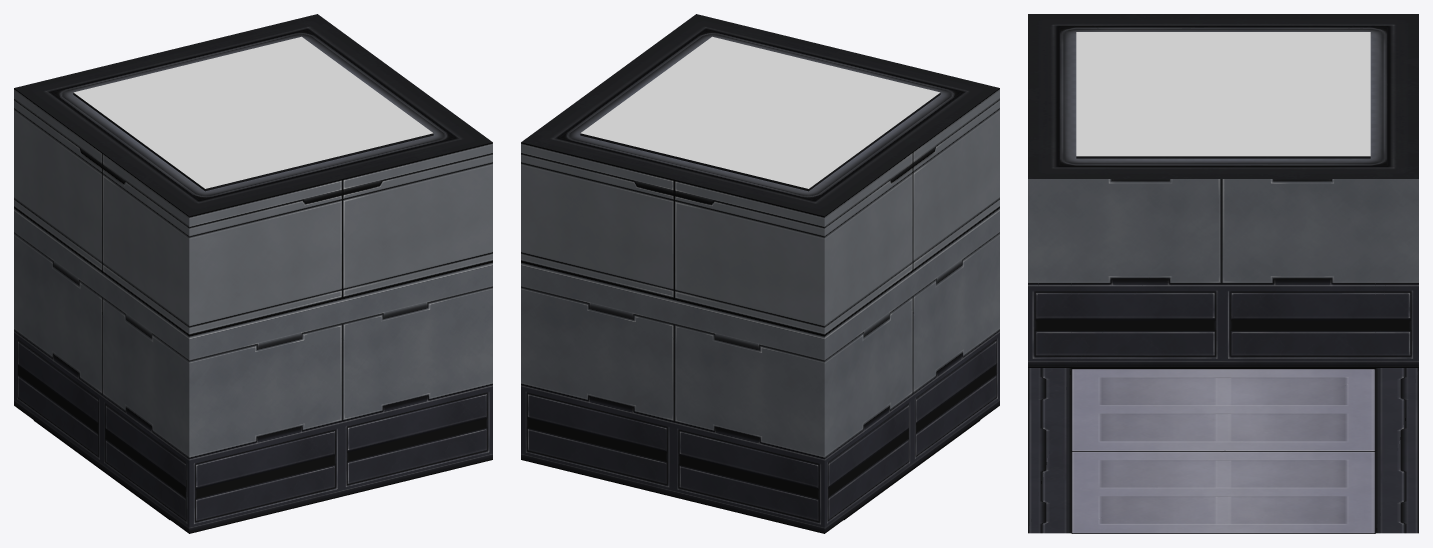
The model's file is ProtoHallwayEndcap.fbx.
The picture shows the model from 3 angles, left to right: view 1: azimuth 30°, elevation 25°; view 2: azimuth 150°, elevation 25°; view 3: azimuth 270°, elevation 25°; orthographic projection. The views are drawn at different scales.
Visible parts, largest first — view 1: Cube; view 2: Cube; view 3: Cube.
Part boxes in pixels (x1,y1,x2,y2): Cube: [14, 14, 492, 533]; Cube: [521, 14, 999, 533]; Cube: [1028, 14, 1418, 533].
Bounding box in the file's own units: 200 × 202 × 200.
